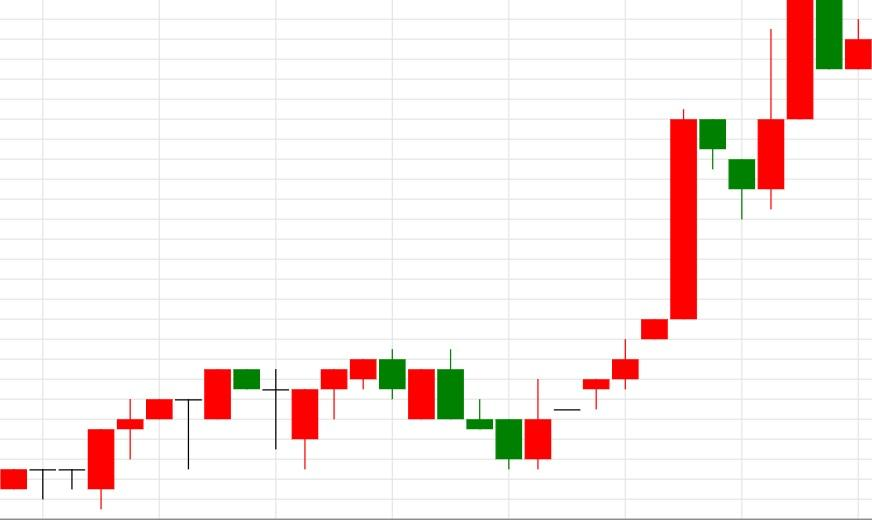bearish_engulfing_fall: (291, 349, 407, 469)
bullish_engulfing_rise: (437, 349, 552, 470)
